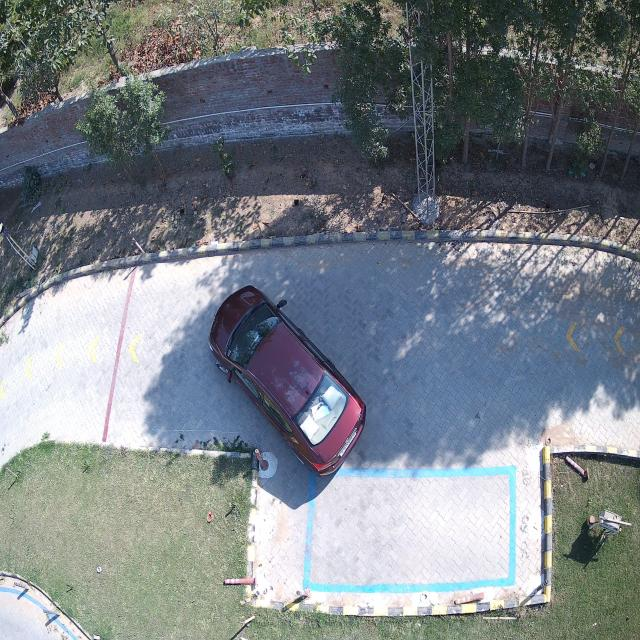car: (209, 287, 366, 475)
